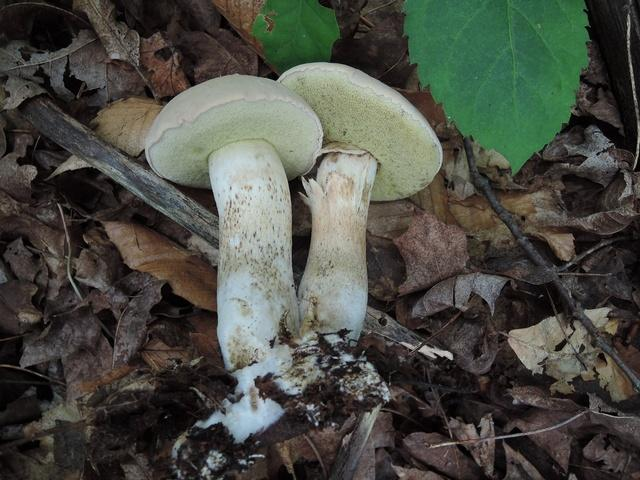edible_mushroom: (147, 60, 444, 365)
